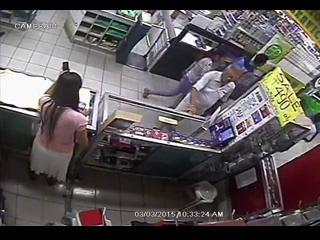Normal: (28, 68, 90, 191), (174, 55, 258, 117), (141, 55, 215, 101)
